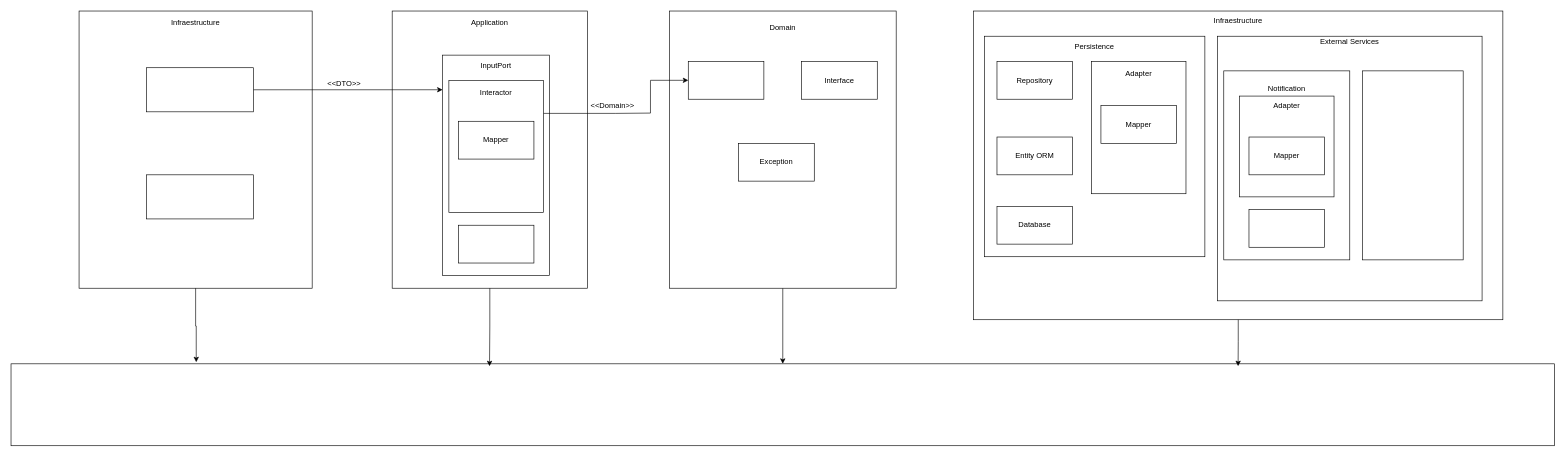
The diagram is 1566 pixels wide and 457 high, and some of its shapes have lost their labels. Here are the shapes that lost their labels. From the top down, the centre of each, then its label:
At (x=200, y=89): "Controller".
At (x=726, y=80): "Entity".
At (x=1412, y=165): "Payments".
At (x=200, y=196): "Request DTO".
At (x=496, y=244): "OutputPort".
At (x=1286, y=228): "DTO".
At (x=782, y=404): "Cross Cutting".
